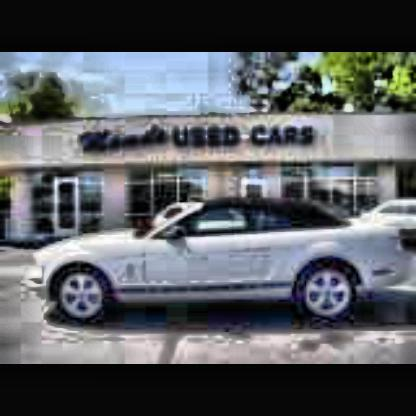Ford Mustang Convertible 2007: (22, 196, 416, 333)
